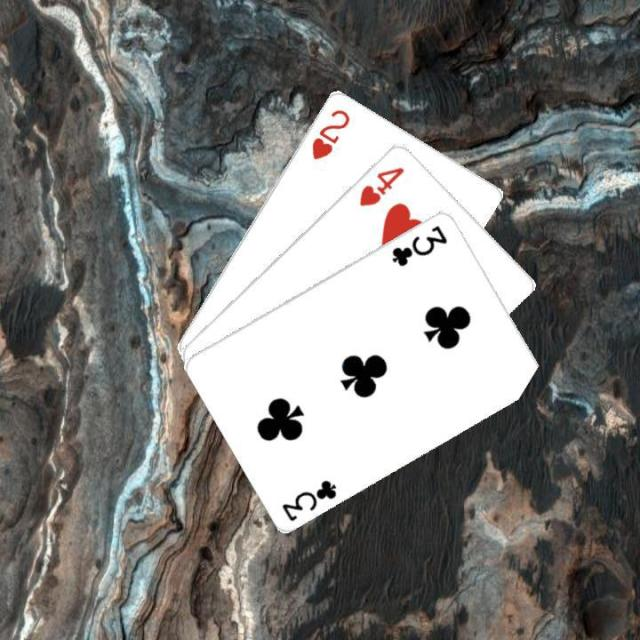2H: (308, 105, 352, 162)
3C: (277, 474, 339, 524), (388, 220, 450, 268)
4H: (356, 162, 406, 208)
